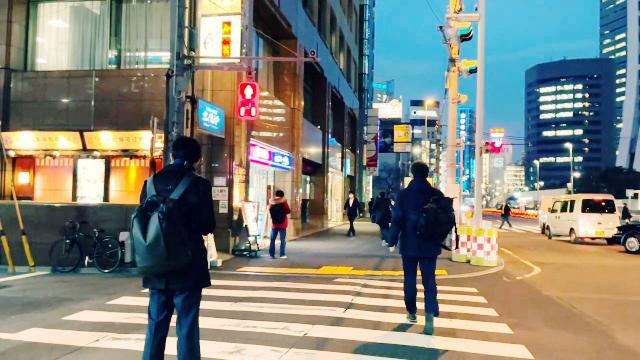berdiri: (142, 131, 210, 360), (266, 187, 292, 260)
berjalan: (387, 152, 453, 334)
